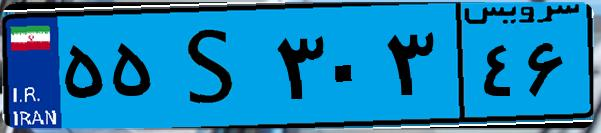0: (330, 28, 385, 110)
3: (270, 28, 330, 110), (385, 28, 445, 110)
4: (475, 38, 525, 113)
5: (57, 26, 110, 100), (110, 28, 158, 98)
6: (525, 38, 570, 115)
S: (158, 12, 270, 120)
